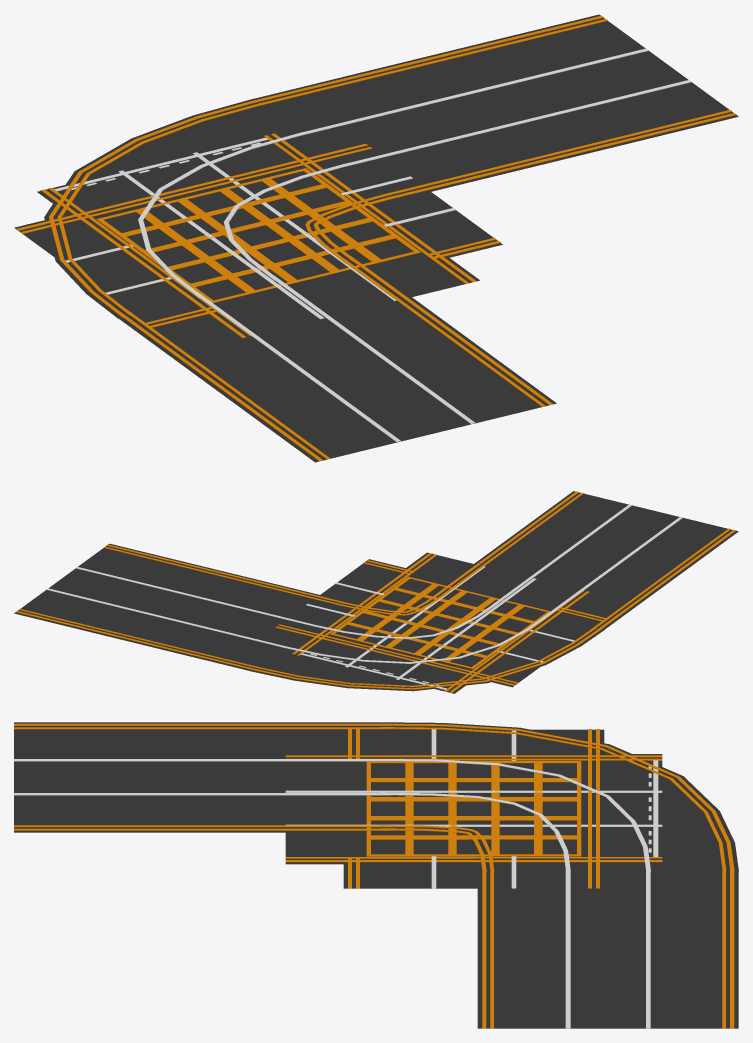
The model's file is RoadFix.fbx.
3 renders of one model, top to bottom at view 1: azimuth 30°, elevation 25°; view 2: azimuth 150°, elevation 25°; view 3: azimuth 270°, elevation 25°, orthographic. The views are drawn at different scales.
Parts seen in each view (by area): view 1: Turn, Junction Mid, JunctionStart, BaseRoad.002; view 2: Turn, Junction Mid, JunctionStart, BaseRoad.002; view 3: Turn, Junction Mid, JunctionStart, BaseRoad.002.
Boxes of the visible parts, bbox=[...] form: Turn: bbox=[44, 14, 738, 462]; Junction Mid: bbox=[14, 143, 502, 327]; JunctionStart: bbox=[37, 133, 479, 338]; BaseRoad.002: bbox=[39, 134, 476, 337]; Turn: bbox=[14, 491, 738, 691]; Junction Mid: bbox=[275, 559, 605, 687]; JunctionStart: bbox=[292, 553, 589, 693]; BaseRoad.002: bbox=[293, 552, 586, 692]; Turn: bbox=[14, 722, 738, 1028]; Junction Mid: bbox=[343, 729, 604, 888]; JunctionStart: bbox=[285, 754, 662, 864]; BaseRoad.002: bbox=[285, 754, 662, 864].
Bounding box in the file's own units: 2502 × 2.93 × 2501.
